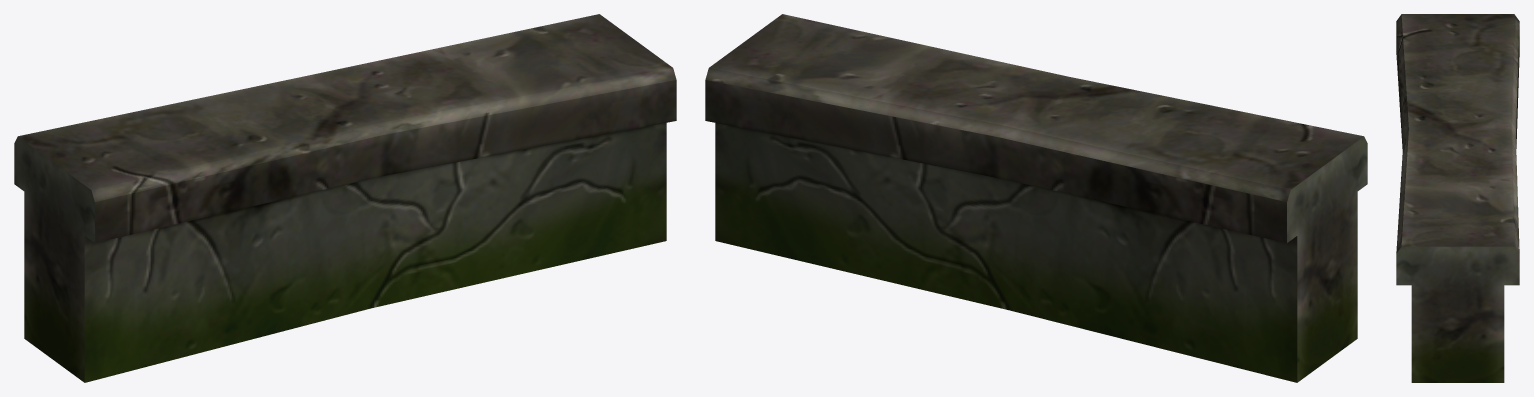
Rendered from Wall01.FBX.
The picture shows the model from 3 angles, left to right: view 1: azimuth 30°, elevation 25°; view 2: azimuth 150°, elevation 25°; view 3: azimuth 270°, elevation 25°; orthographic projection. The views are drawn at different scales.
Parts seen in each view (by area): view 1: Wall01; view 2: Wall01; view 3: Wall01.
Part boxes in pixels (bbox=[...]): Wall01: bbox=[14, 14, 676, 382]; Wall01: bbox=[705, 14, 1367, 382]; Wall01: bbox=[1396, 14, 1519, 382].
Size of the model in its own units: 37.83 by 12.28 by 9.06.
